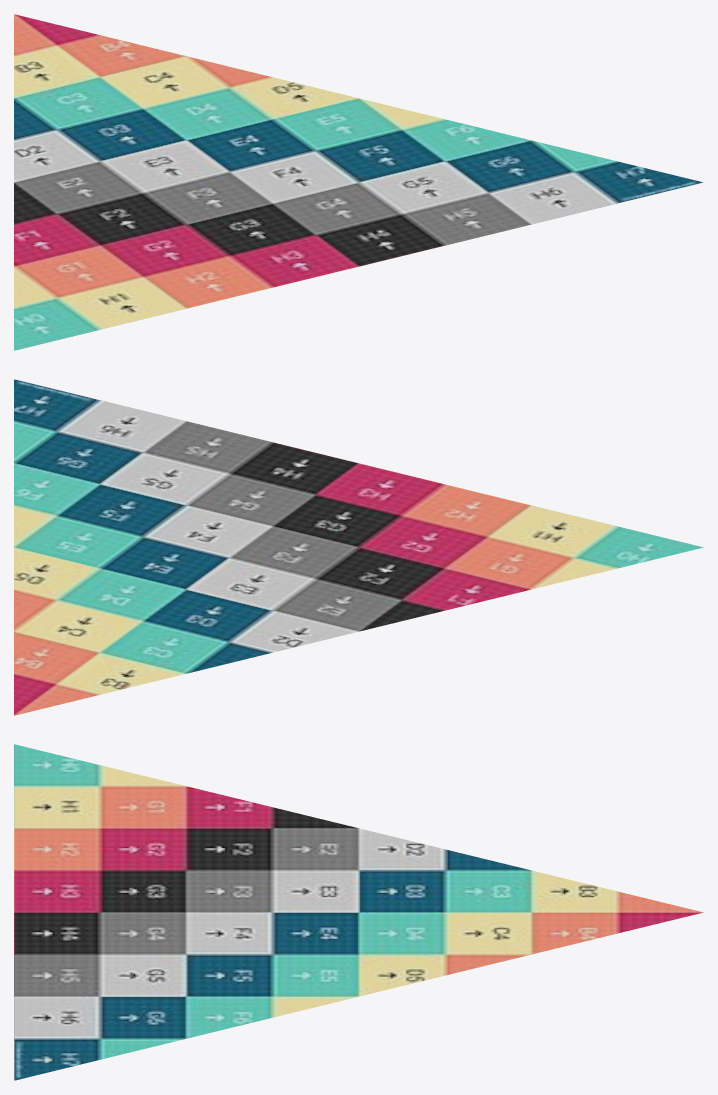
The model's file is Triangle2.glb.
The picture shows the model from 3 angles, top to bottom: view 1: azimuth 30°, elevation 25°; view 2: azimuth 150°, elevation 25°; view 3: azimuth 270°, elevation 25°; orthographic projection.
Parts seen in each view (by area): view 1: Cylinder; view 2: Cylinder; view 3: Cylinder.
Part boxes in pixels (x1,y1,x2,y2): Cylinder: [14, 14, 703, 350]; Cylinder: [14, 379, 703, 715]; Cylinder: [14, 744, 703, 1080].
Size of the model in its own units: 2.26 by 0 by 1.95.
Materials: 1 (1 with a texture image).
